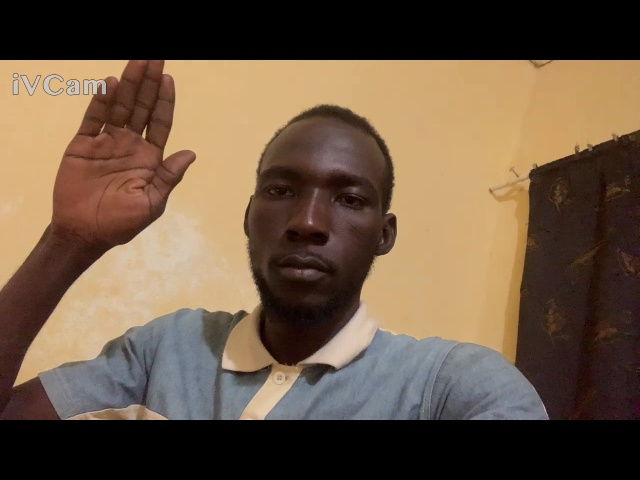bonjour: (43, 60, 209, 256)
